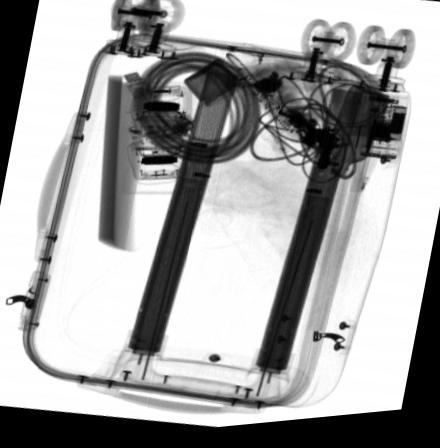Gun: (287, 115, 342, 174)
